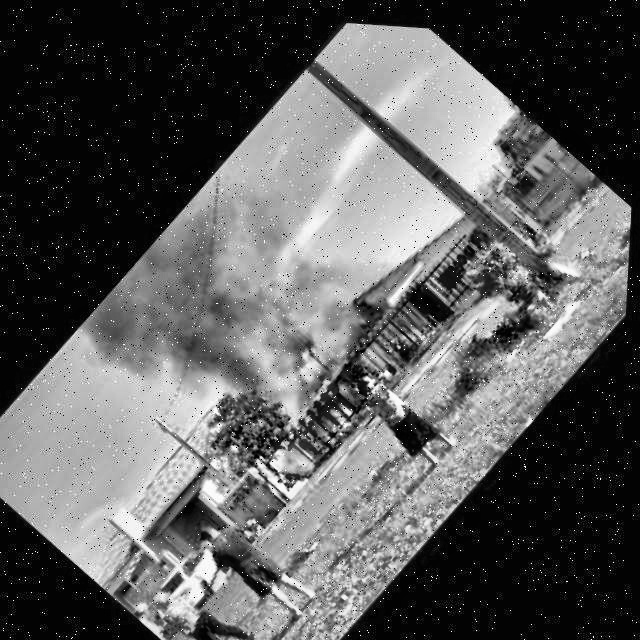Fire: (262, 297, 361, 396), (271, 432, 331, 490)
Smoke: (69, 141, 357, 446)
